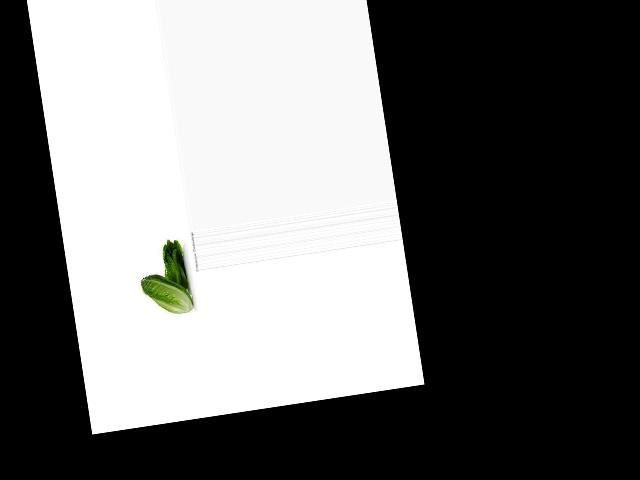lettuce: (154, 237, 195, 292)
